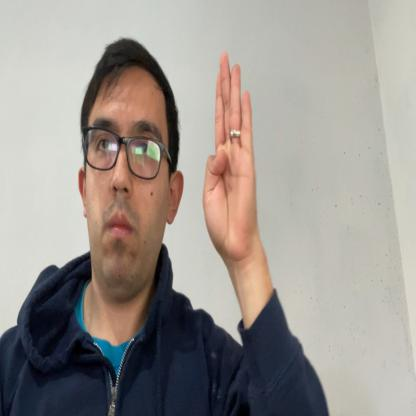B: (202, 50, 258, 269)
